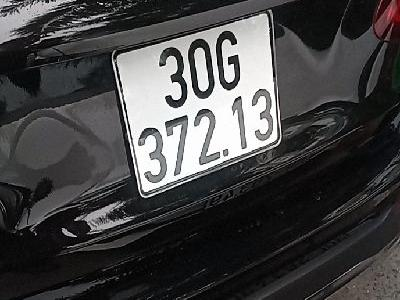lisence: (109, 8, 306, 201)
